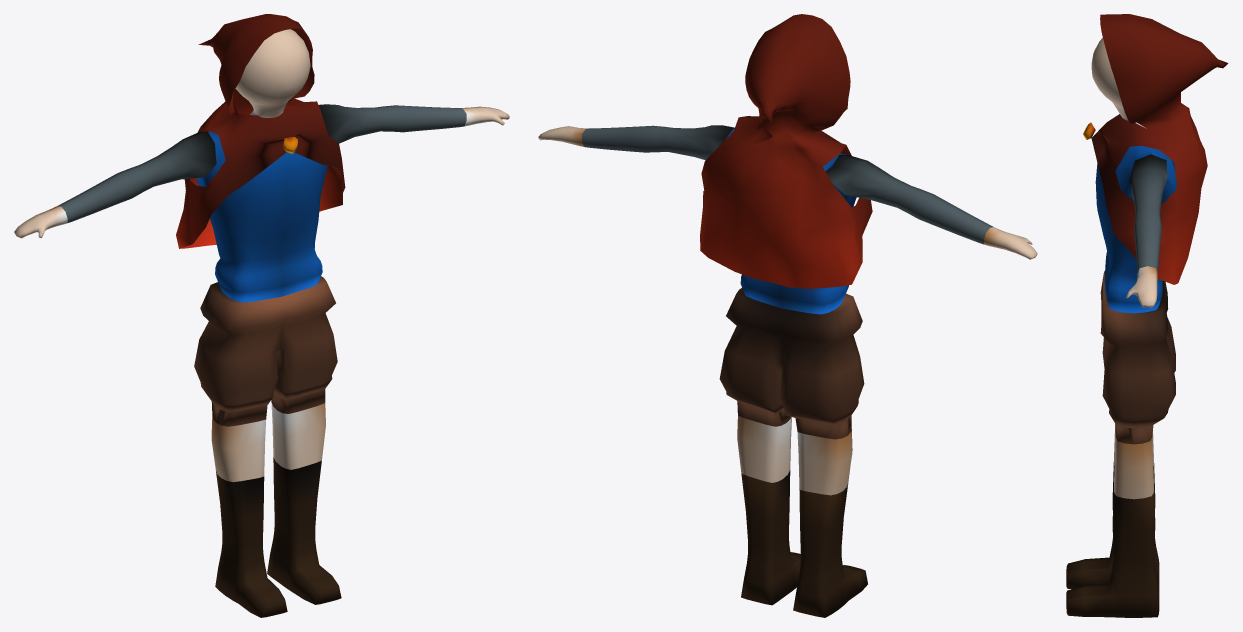
File: mage.fbx
3 renders of one model, left to right at view 1: azimuth 30°, elevation 25°; view 2: azimuth 150°, elevation 25°; view 3: azimuth 270°, elevation 25°, orthographic.
Parts seen in each view (by area): view 1: Mage; view 2: Mage; view 3: Mage.
Boxes of the visible parts, box(x1,y1,x2,y2) form: Mage: box(14, 14, 509, 617); Mage: box(538, 14, 1037, 617); Mage: box(1066, 14, 1228, 617).
Size of the model in its own units: 352 by 389 by 98.78.
